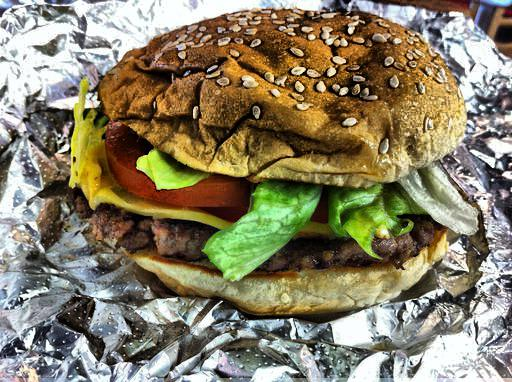burger: (66, 13, 469, 296)
